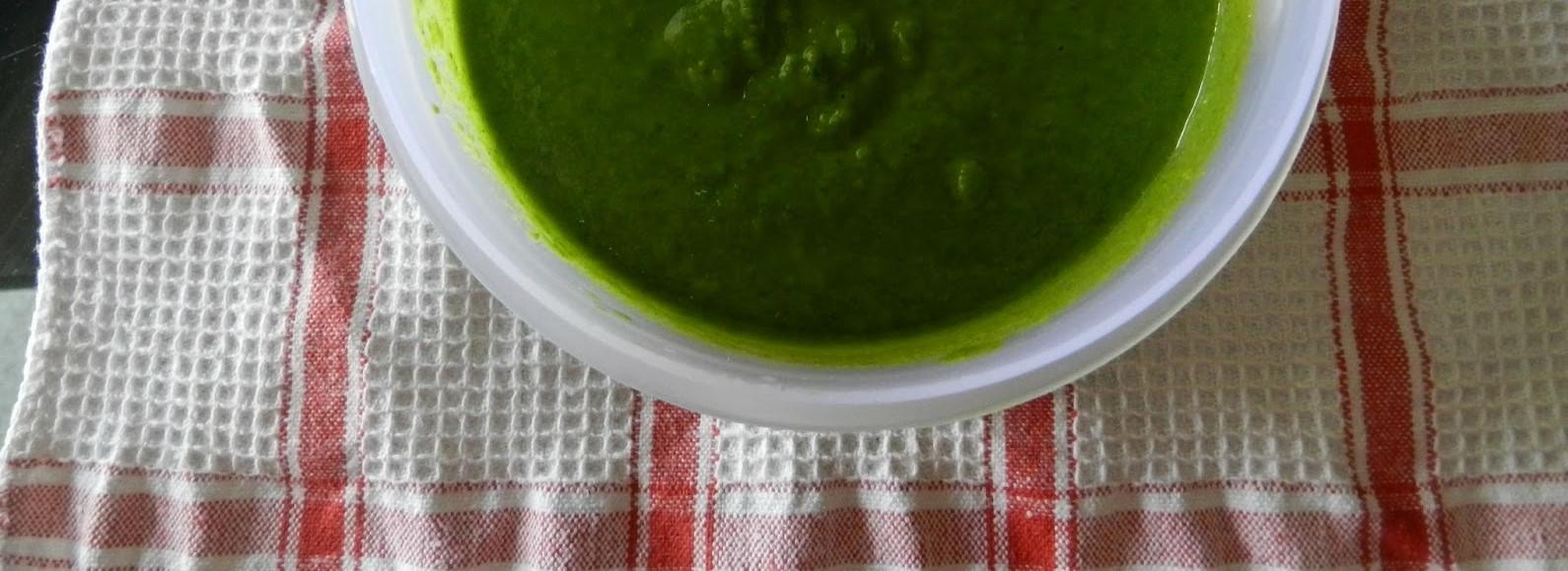GreenChutney: (458, 1, 1217, 346)
